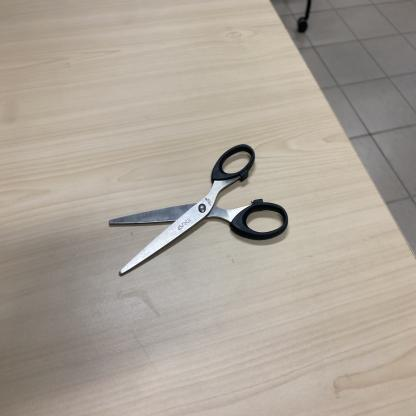scissors: (110, 143, 290, 276)
